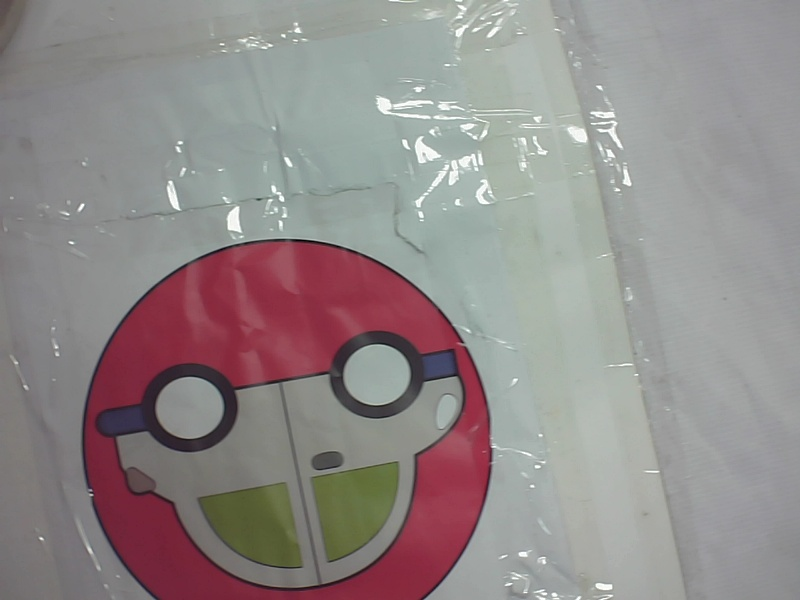areaC: (69, 235, 513, 598)
